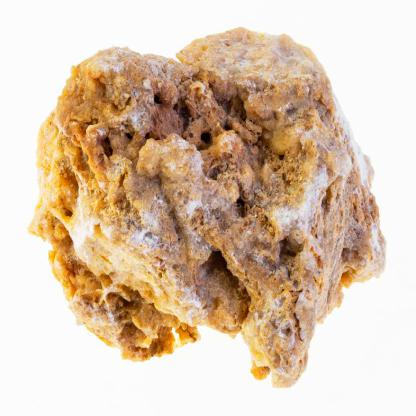Sedimentary_Limestone: (17, 24, 394, 387)
